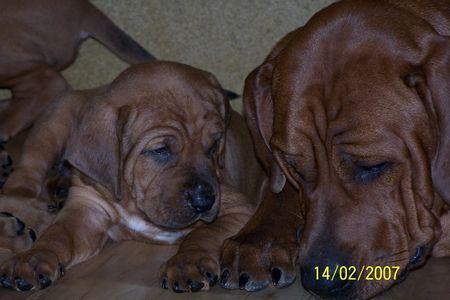tosa_inu: (220, 0, 450, 300), (0, 57, 268, 294), (0, 0, 241, 140)
